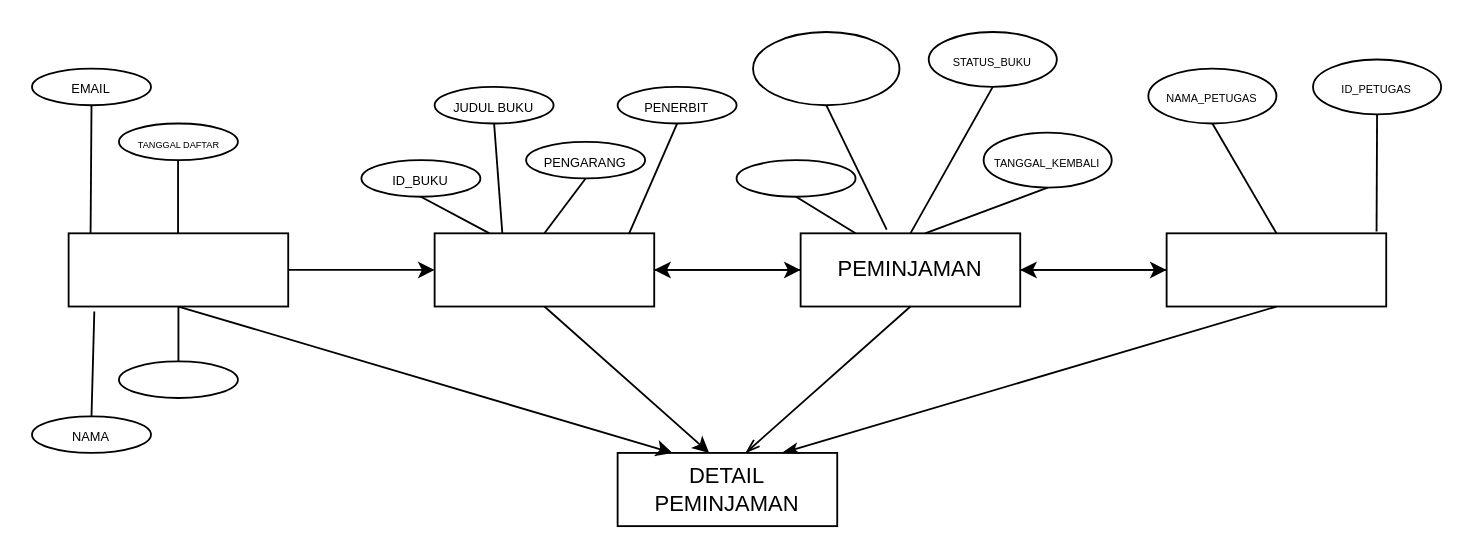
This 1473x558 diagram has some shape labels left out. The centre of each missing label's shape, as x and y in pixels:
"BUKU" belongs at pixel 543 269.
"ID_NAMA" belongs at pixel 177 379.
"ID_PEMINJAMAN" belongs at pixel 795 177.
"IDENTITAS PEMINJAM" belongs at pixel 177 269.
"PETUGAS" belongs at pixel 1275 269.
"TANGGAL_PEMINJAMAN" belongs at pixel 825 67.
